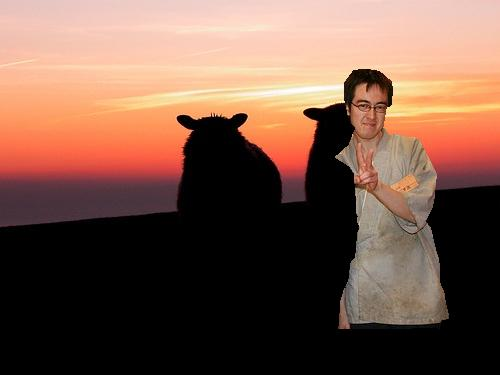tampered: (336, 70, 449, 329)
